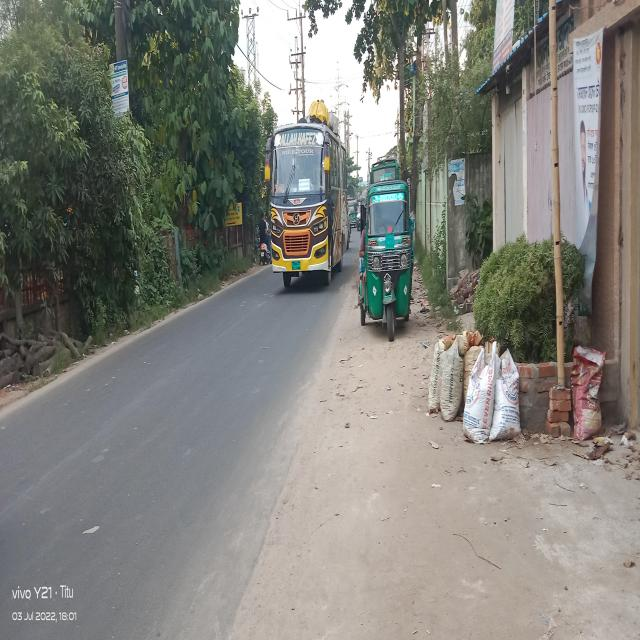bus: (256, 86, 356, 304)
